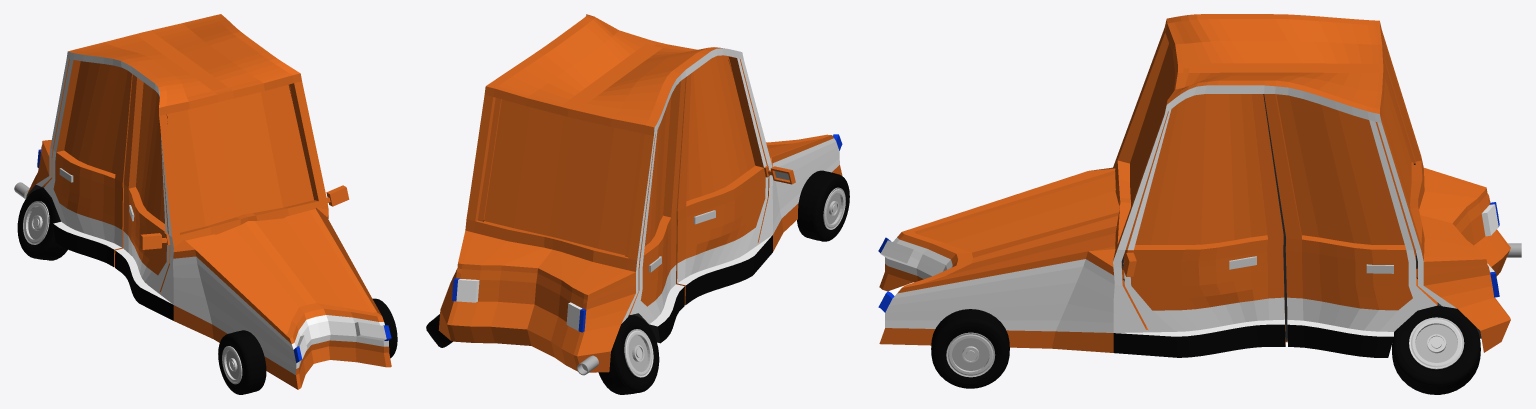
3 views of the same model, side by side, from view 1: azimuth 30°, elevation 25°; view 2: azimuth 150°, elevation 25°; view 3: azimuth 270°, elevation 25° (orthographic). The views are drawn at different scales.
Visible parts, largest first — view 1: BODY33-S, WHEEL.001, WHEEL.004, WHEEL.003; view 2: BODY33-S, WHEEL.004, WHEEL.001, WHEEL.002; view 3: BODY33-S, WHEEL.002, WHEEL.003.
Boxes of the visible parts, box(x1,y1,x2,y2) form: BODY33-S: box(26, 14, 391, 389); WHEEL.001: box(218, 330, 266, 394); WHEEL.004: box(17, 188, 67, 260); WHEEL.003: box(373, 298, 397, 358); BODY33-S: box(438, 14, 842, 372); WHEEL.004: box(598, 315, 659, 394); WHEEL.001: box(797, 170, 849, 241); WHEEL.002: box(426, 314, 452, 347); BODY33-S: box(878, 14, 1510, 357); WHEEL.002: box(1392, 305, 1480, 394); WHEEL.003: box(931, 309, 1009, 388).
Size of the model in its own units: 113 by 124 by 244.
